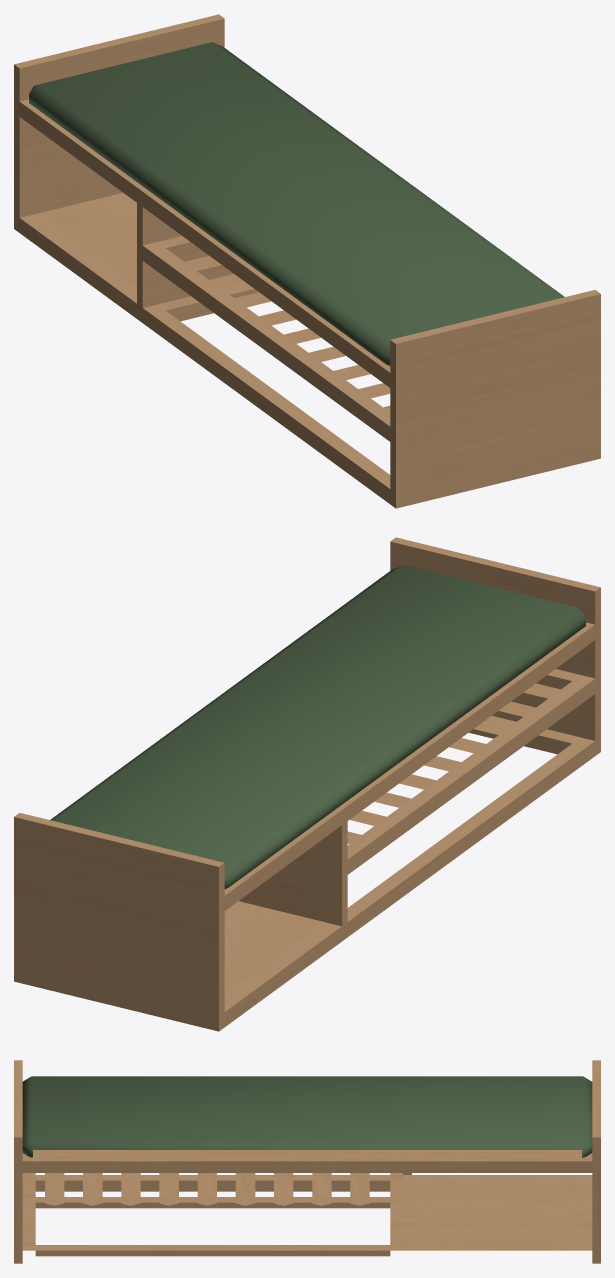
The model's file is M_huanxieyi03.FBX.
3 views of the same model, one above another, from view 1: azimuth 30°, elevation 25°; view 2: azimuth 150°, elevation 25°; view 3: azimuth 270°, elevation 25° (orthographic). The views are drawn at different scales.
Visible parts, largest first — view 1: M_huanxieyi03_01, M_huanxieyi03_02; view 2: M_huanxieyi03_01, M_huanxieyi03_02; view 3: M_huanxieyi03_01, M_huanxieyi03_02.
Part boxes in pixels (x1=…): M_huanxieyi03_01: x1=14, y1=14, x2=600, y2=508; M_huanxieyi03_02: x1=29, y1=42, x2=564, y2=365; M_huanxieyi03_01: x1=14, y1=537, x2=600, y2=1031; M_huanxieyi03_02: x1=50, y1=565, x2=585, y2=888; M_huanxieyi03_01: x1=14, y1=1060, x2=600, y2=1263; M_huanxieyi03_02: x1=22, y1=1076, x2=592, y2=1157.
Bounding box in the file's own units: 0.7057 × 0.5415 × 2.28.
